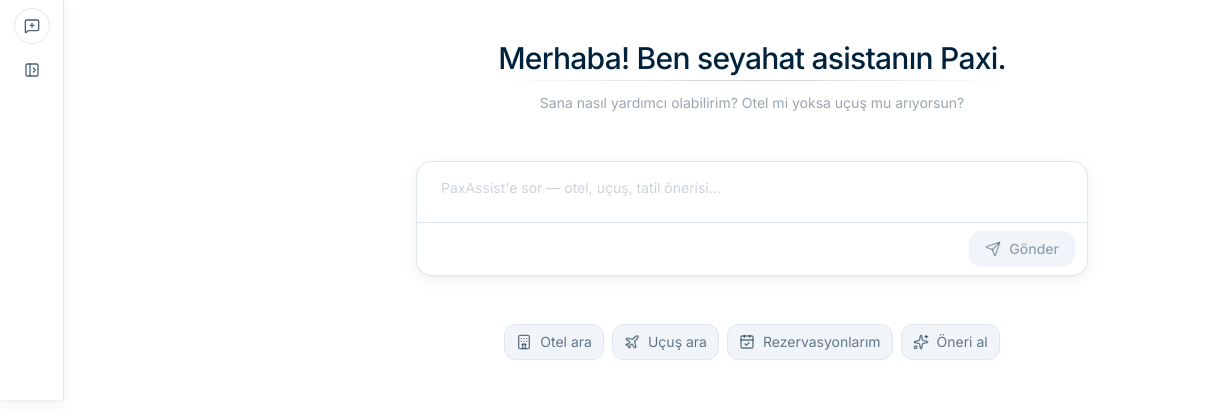
Test case: ChatPage (MSW ile uçtan uca) › mesaj gönderilip yanıt gelince imleç sohbet input'una geri döner (odak korunur)
In the dropdown named "Mesaj": (752, 192) 425,170 -> 1079,214, type "merhaba"
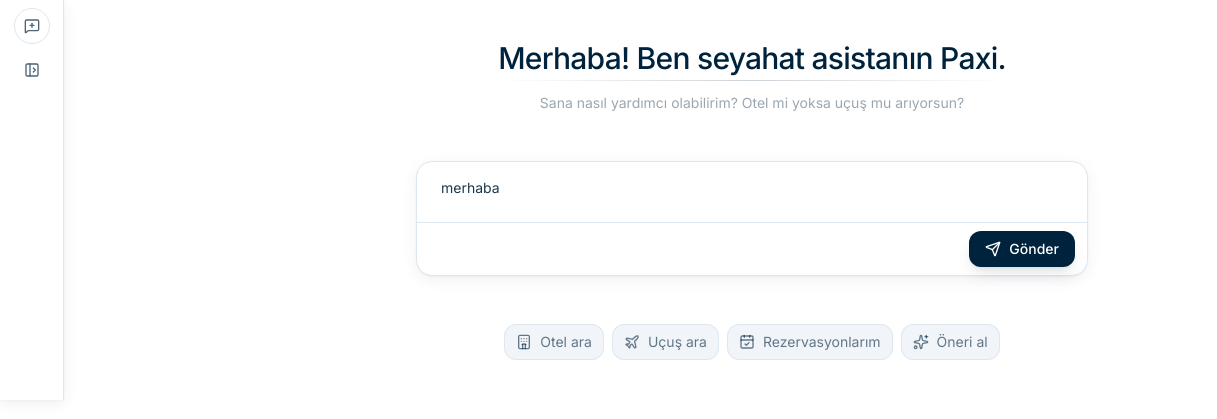
Click the button "Gönder": (1022, 249) 969,231 -> 1075,267
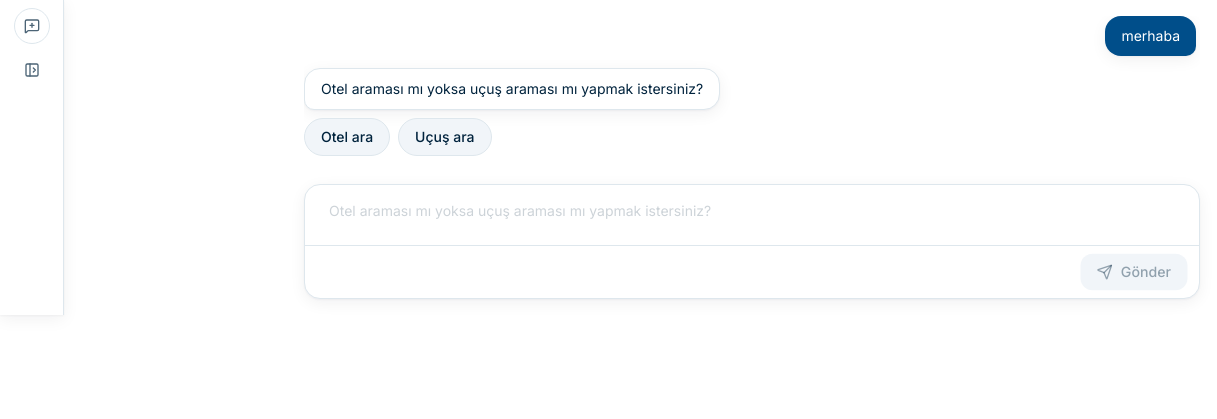
Expected: the text "Otel araması mı yoksa uçuş araması mı yapmak istersiniz?" is shown, 304,68 -> 720,110
